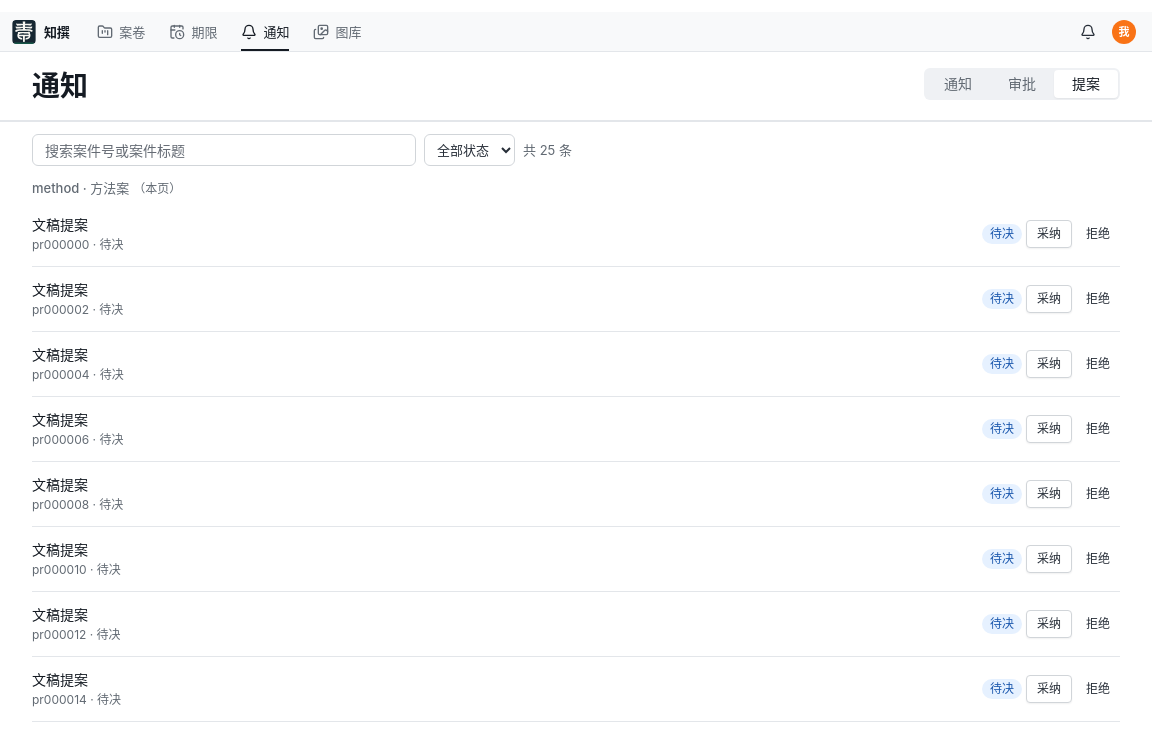
Test: M2 inbox 页签：#/inbox?tab= 并入审批与提案 › 筛选变更后 fetch 挂起中强制 rerender：旧筛选记录始终不可见（跨筛选无 placeholder）
Expected: the list item with test id "inbox-proposal-pr000000" is shown, x1=32 y1=202 x2=1120 y2=267
Select "草稿" in the dropdown named "提案状态": coordinates (470, 150) x1=424 y1=134 x2=515 y2=166
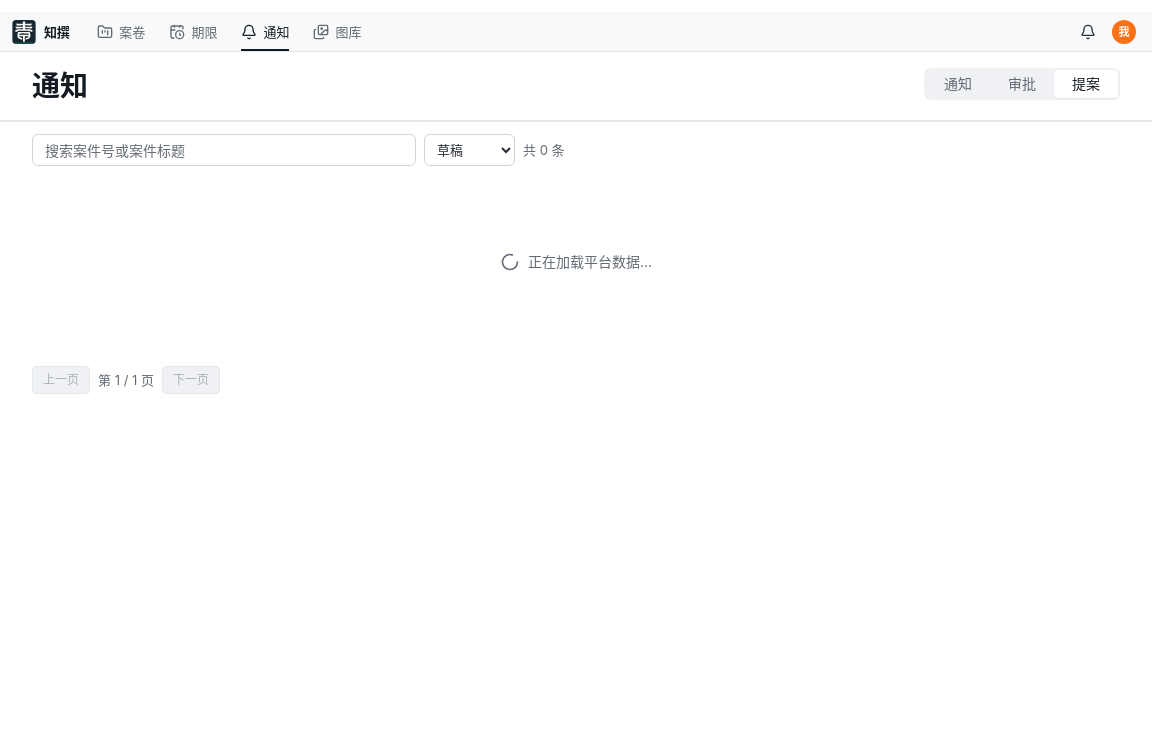
Expected: the list item with test id "inbox-proposal-pr000000" is gone
Expected: the message "正在加载平台数据…" is shown, x1=500 y1=252 x2=652 y2=272
